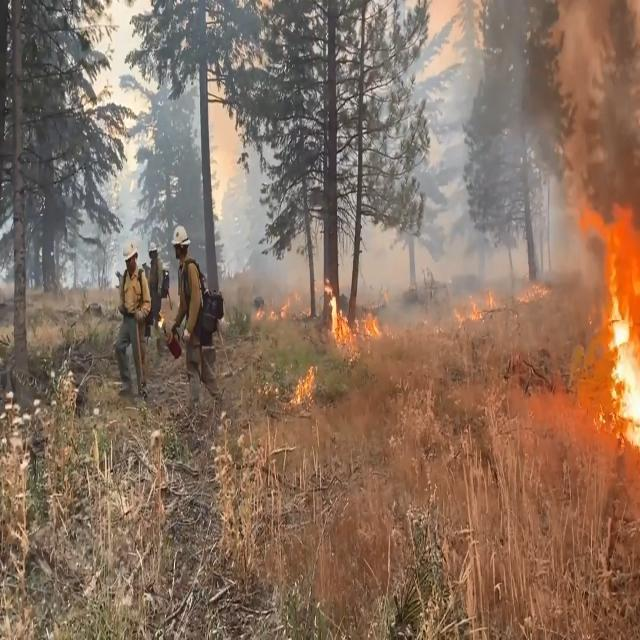Fire: (566, 185, 640, 448), (242, 274, 381, 402)
